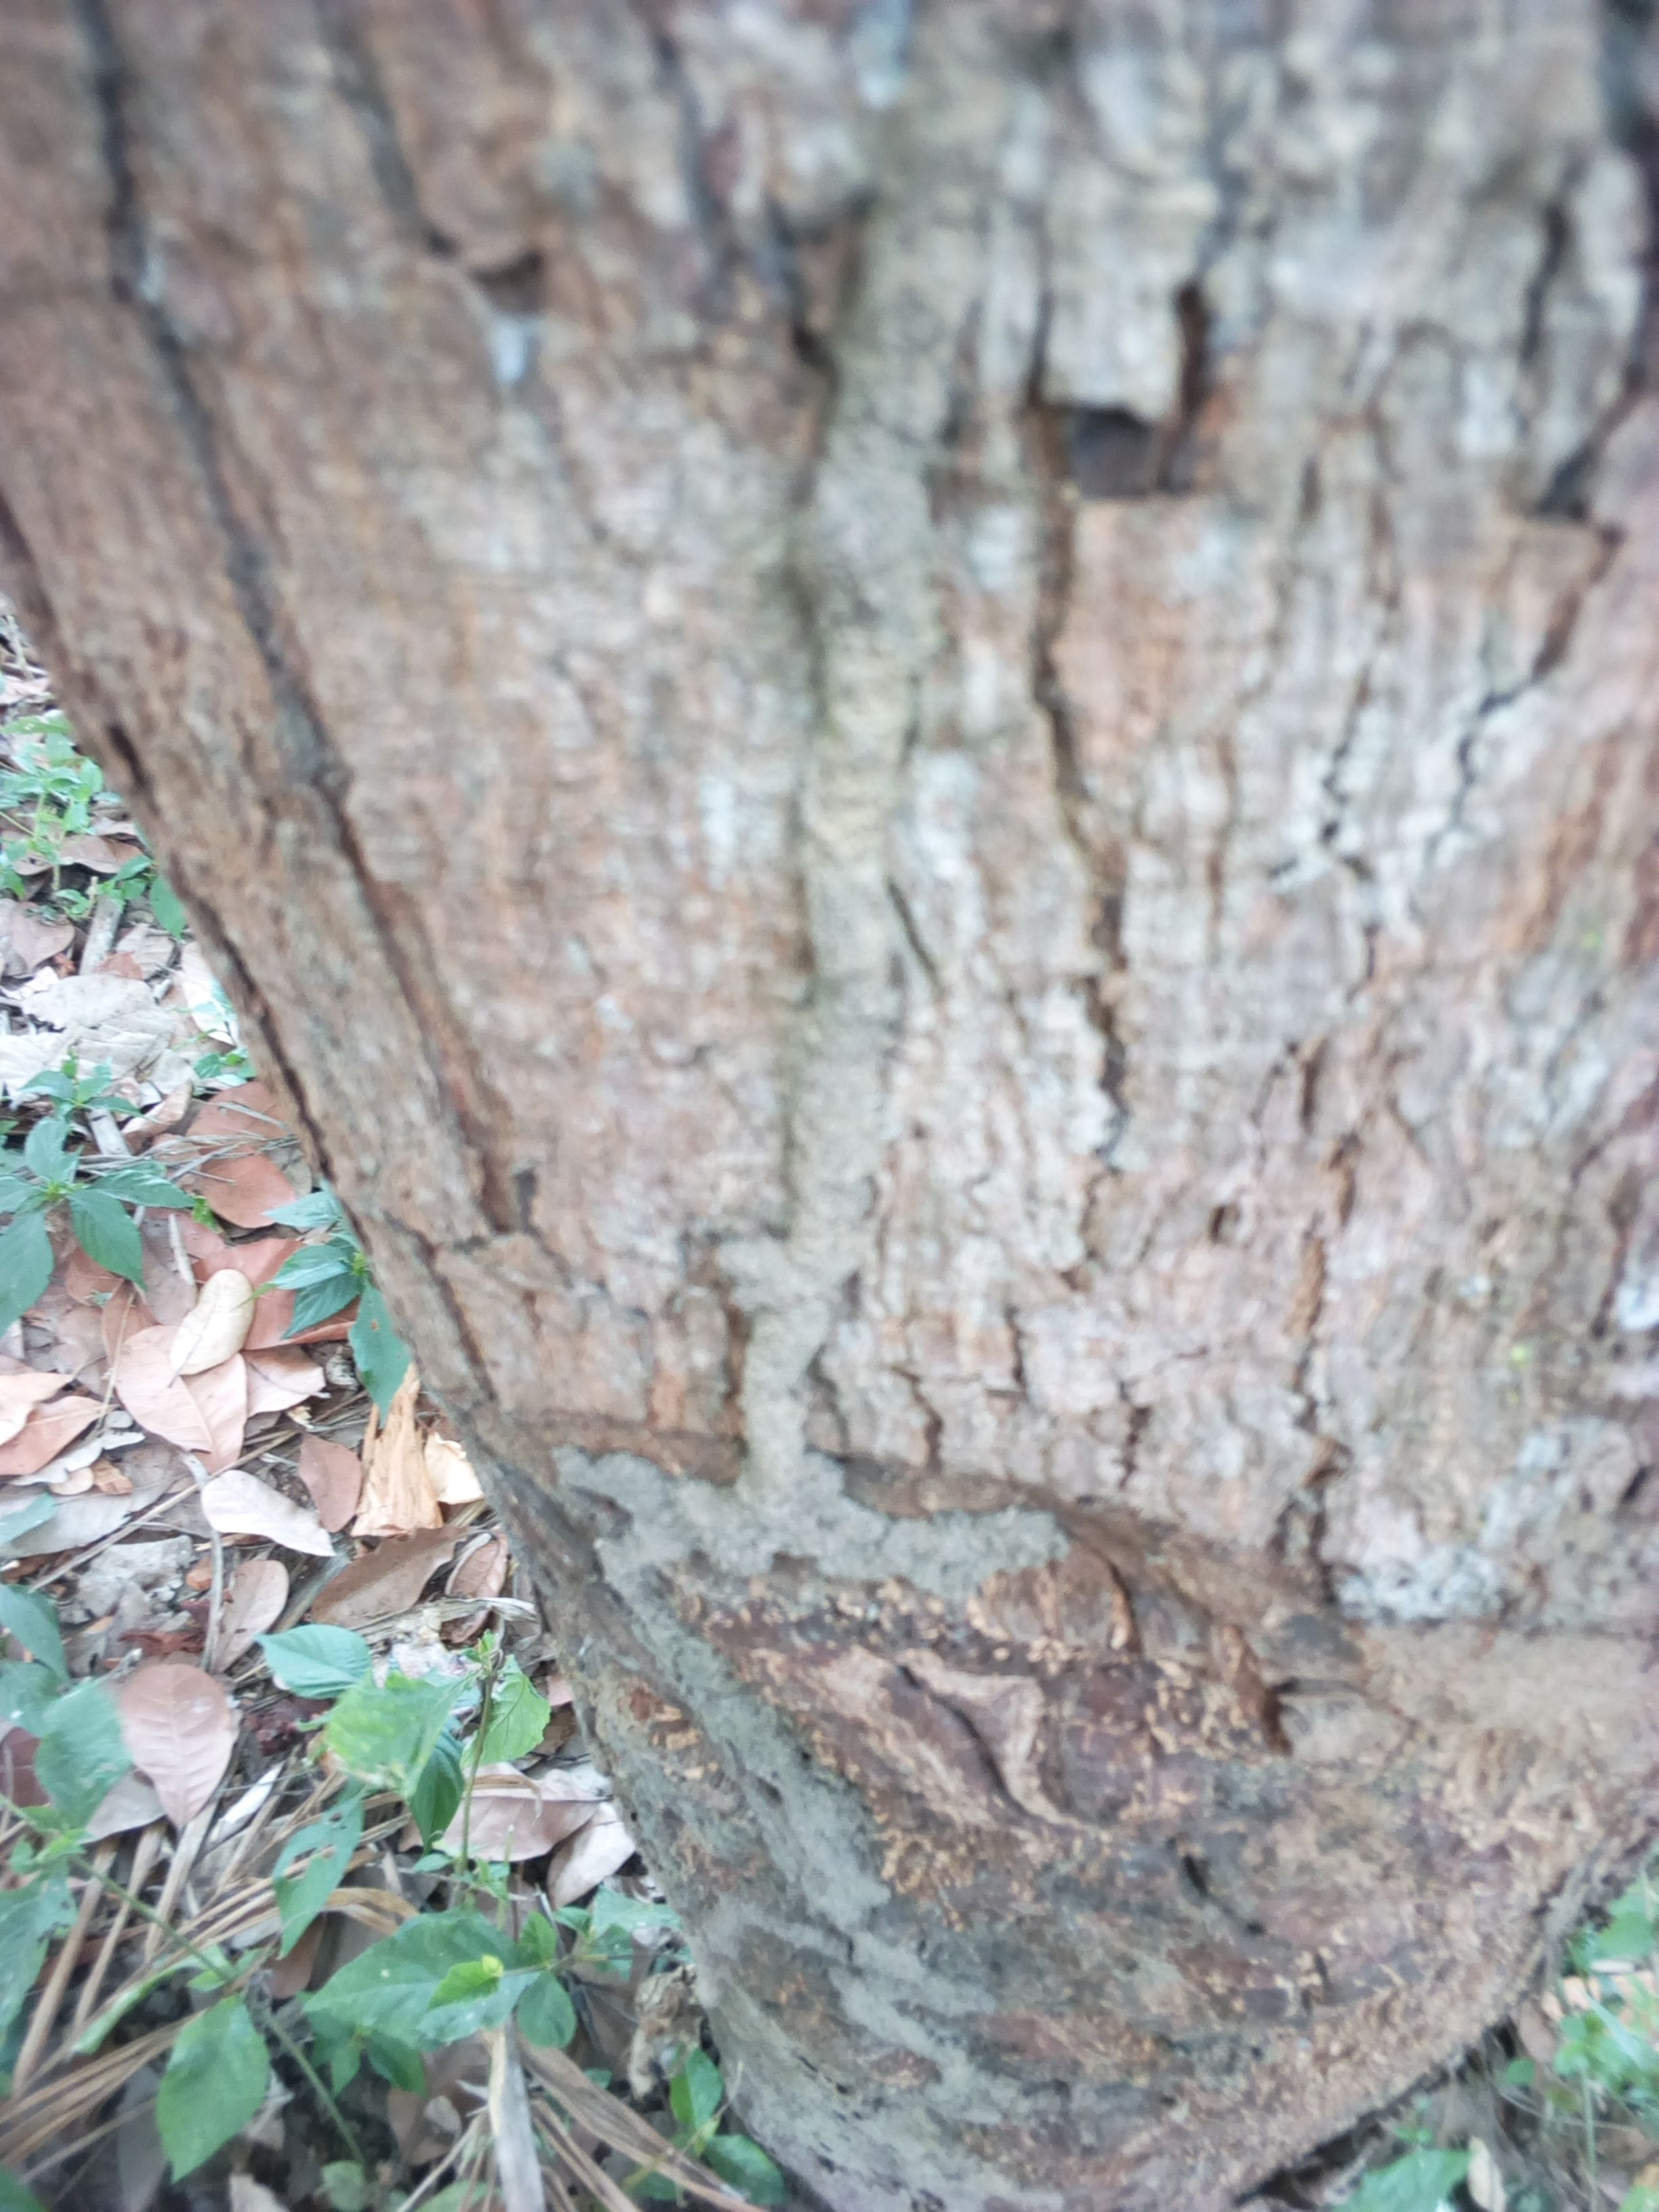Termites: (328, 63, 1659, 1615)
